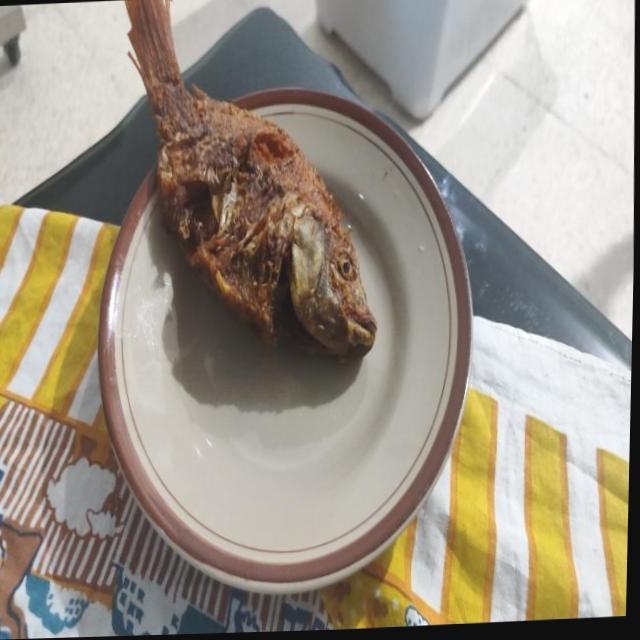ikan_mujair: (125, 0, 376, 357)
